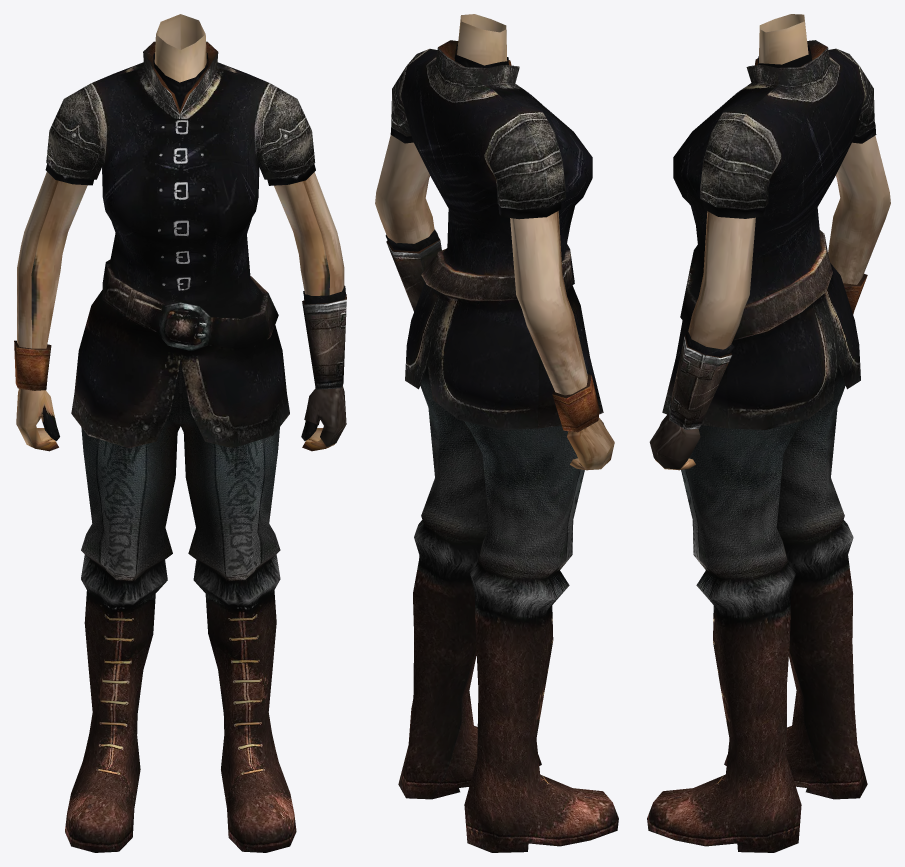
The model's file is ZORA_ARMOR.glb.
3 renders of one model, left to right at view 1: azimuth 30°, elevation 25°; view 2: azimuth 150°, elevation 25°; view 3: azimuth 270°, elevation 25°, orthographic.
Visible parts, largest first — view 1: ZORA_ARMOR; view 2: ZORA_ARMOR; view 3: ZORA_ARMOR.
Part boxes in pixels (x1,y1,x2,y2): ZORA_ARMOR: (14, 14, 346, 852); ZORA_ARMOR: (375, 14, 618, 852); ZORA_ARMOR: (647, 14, 890, 852).
Bounding box in the file's own units: 0.6067 × 1.67 × 0.4649.
Materials: 2 (2 with a texture image).
